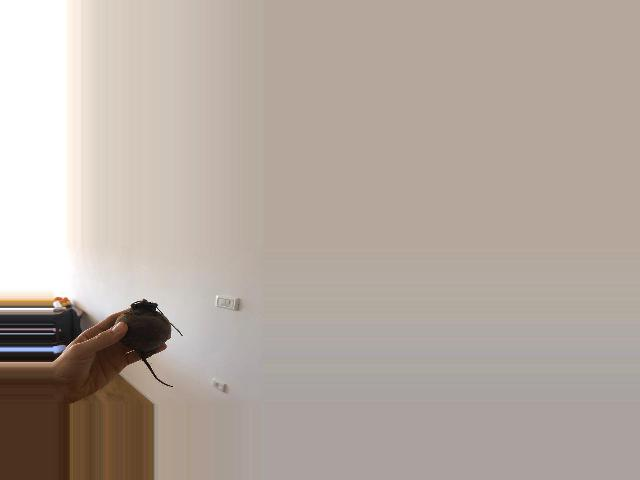beet: (114, 299, 183, 387)
